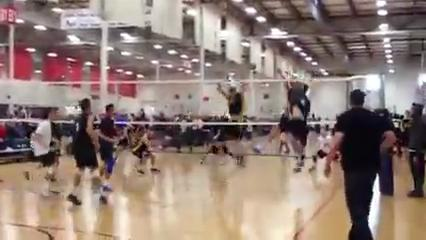attacco: (276, 70, 309, 173)
muro: (216, 77, 255, 168)
